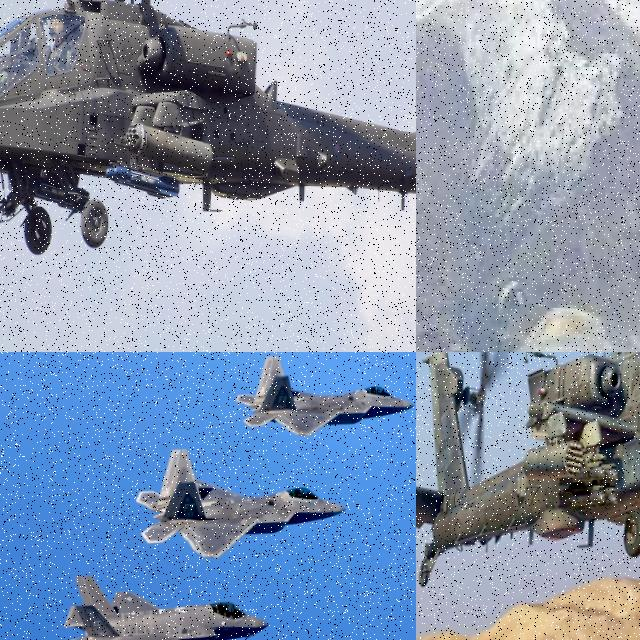Apache: (0, 0, 416, 271), (416, 352, 640, 595)
F22: (136, 446, 348, 570), (468, 226, 640, 352), (238, 354, 416, 453), (61, 571, 270, 640)
